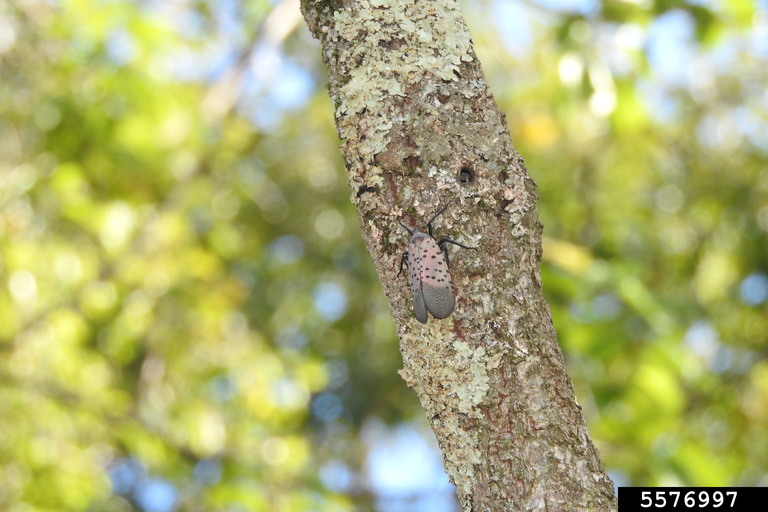adult: (393, 215, 455, 323)
